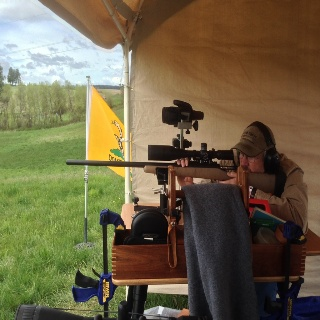rifle: (65, 143, 287, 212)
